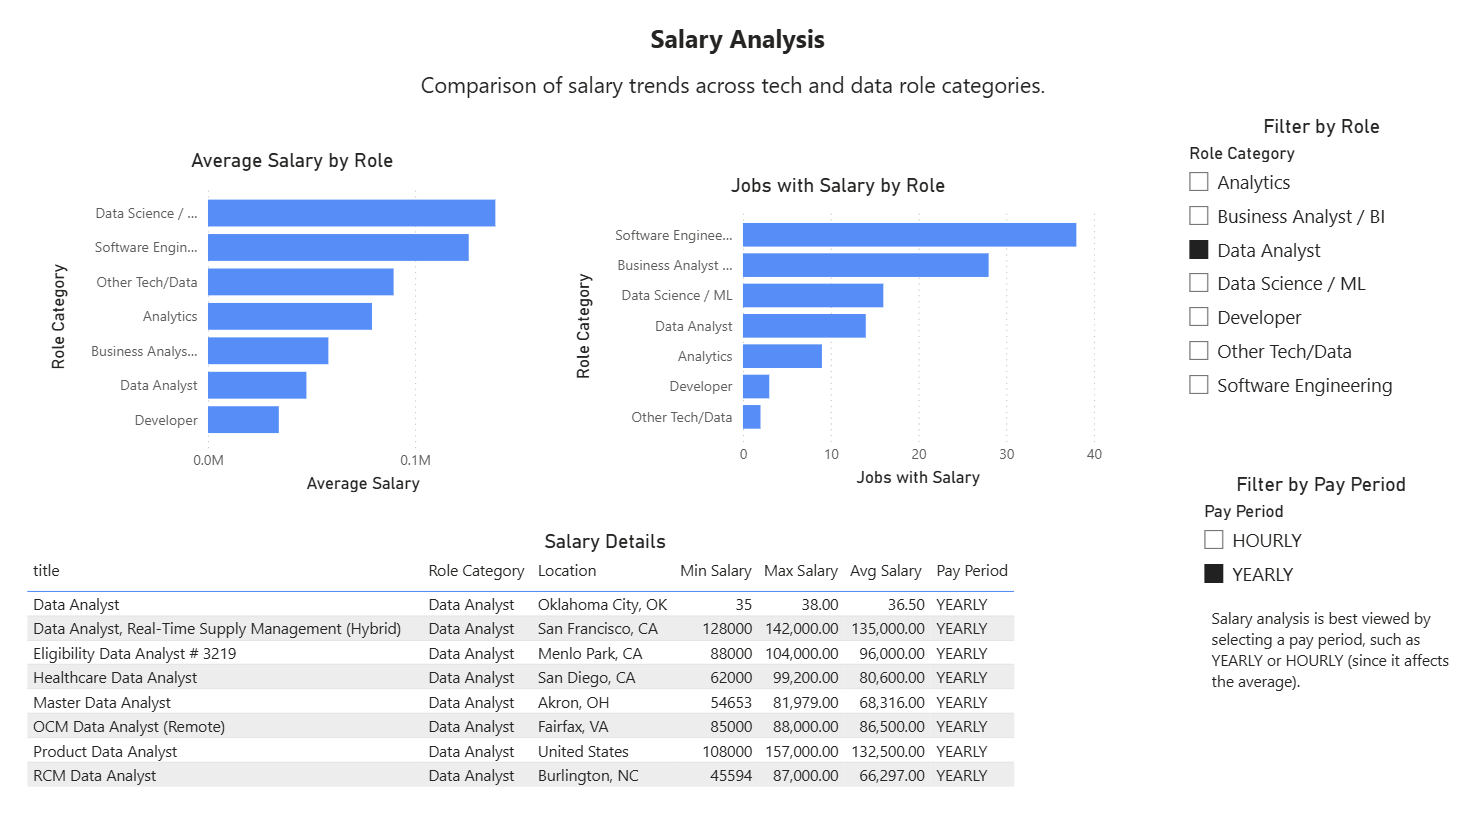

Layout of this report page (visuals, bound fields, positions):
{"tool":"powerbi","page":{"name":"Salary Analysis","canvas":[1280,900],"ordinal":2},"visuals":[{"type":"textbox","box":[555,15,168.3,41.7],"z":0},{"type":"textbox","box":[358.3,56.7,563.3,45],"z":1},{"type":"clusteredBarChart","title":"Average Salary by Role","fields":{"Category":["role_summary_dashboard.role_category"],"Y":["Avg(role_summary_dashboard.avg_salary)"]},"box":[40,130,426.7,300],"z":2},{"type":"clusteredBarChart","title":"Jobs with Salary by Role","fields":{"Category":["role_summary_dashboard.role_category"],"Y":["Sum(role_summary_dashboard.jobs_with_salary)"]},"box":[490,151.7,463.3,273.3],"z":3},{"type":"tableEx","title":"Salary Details","fields":{"Values":["salary_dashboard.title","salary_dashboard.role_category","salary_dashboard.location","salary_dashboard.min_salary","salary_dashboard.max_salary","salary_dashboard.avg_salary","salary_dashboard.pay_period"]},"box":[20,456.7,1003.3,413.3],"z":4},{"type":"slicer","title":"Filter by Role","fields":{"Values":["salary_dashboard.role_category"]},"box":[1010,101.7,253.3,281.7],"z":5},{"type":"slicer","title":"Filter by Pay Period","fields":{"Values":["salary_dashboard.pay_period"]},"box":[1023.3,408.3,226.7,158.3],"z":6},{"type":"textbox","box":[1037.1,518.6,225.7,88.6],"z":7}]}

Visuals, with their boxes on the page's 1280x900 design canvas (x1, y1, x2, y2). These are canvas units, not pixel positions in the 1483x827 screenshot, which may show the page scaled, cropped or inside an application window:
textbox: crop(555, 15, 723, 57)
textbox: crop(358, 57, 922, 102)
"Average Salary by Role" clusteredBarChart: crop(40, 130, 467, 430)
"Jobs with Salary by Role" clusteredBarChart: crop(490, 152, 953, 425)
"Salary Details" tableEx: crop(20, 457, 1023, 870)
"Filter by Role" slicer: crop(1010, 102, 1263, 383)
"Filter by Pay Period" slicer: crop(1023, 408, 1250, 567)
textbox: crop(1037, 519, 1263, 607)
